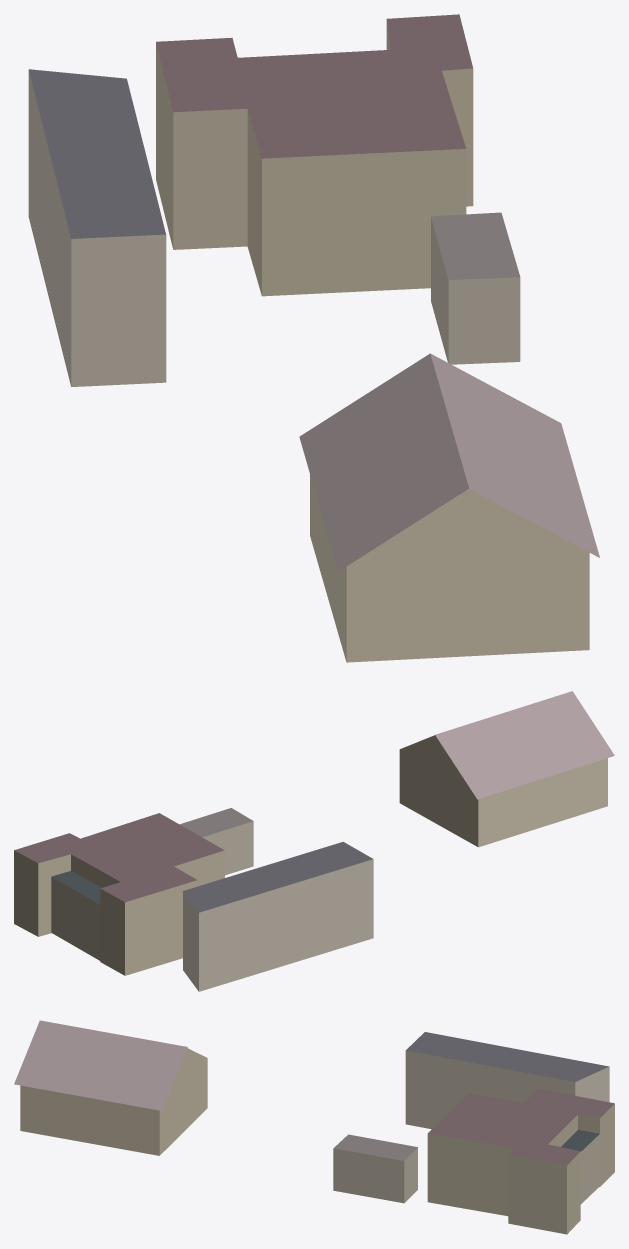
3 renders of one model, top to bottom at view 1: azimuth 30°, elevation 25°; view 2: azimuth 150°, elevation 25°; view 3: azimuth 270°, elevation 25°, orthographic. The views are drawn at different scales.
Visible parts, largest first — view 1: tuile; view 2: tuile; view 3: tuile.
Part boxes in pixels (x1=…): tuile: x1=28, y1=14, x2=599, y2=662; tuile: x1=14, y1=691, x2=614, y2=991; tuile: x1=14, y1=1020, x2=614, y2=1234.
Size of the model in its own units: 26.3 by 7.16 by 43.96.
